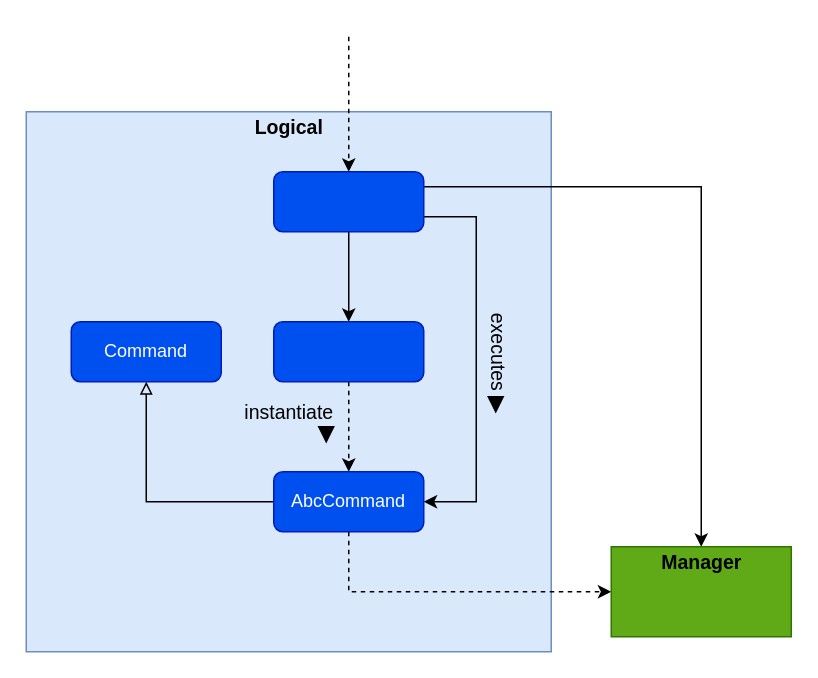
This 818x678 diagram has some shape labels left out. The centre of each missing label's shape, as x and y in pixels:
"Duke" belongs at [348,201].
"Parser" belongs at [348,351].
